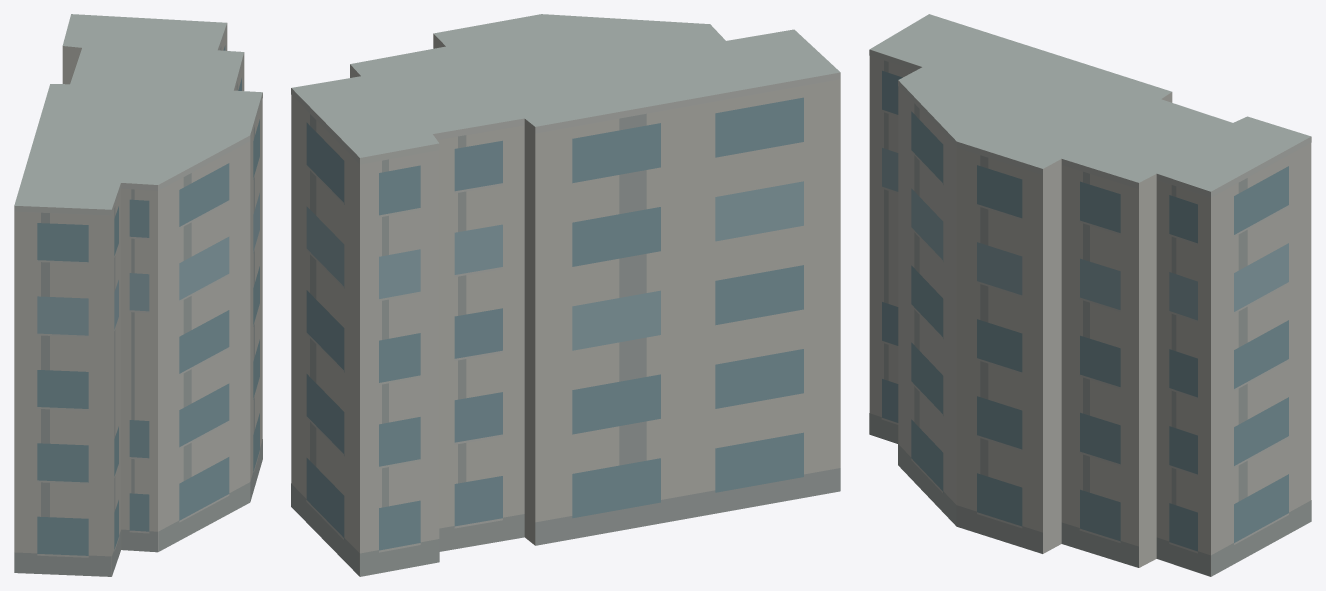
Rendered from survey-upis-32477972.glb.
3 renders of one model, left to right at view 1: azimuth 30°, elevation 25°; view 2: azimuth 150°, elevation 25°; view 3: azimuth 270°, elevation 25°, orthographic. The views are drawn at different scales.
Visible parts, largest first — view 1: survey-upis-32477972.tmp; view 2: survey-upis-32477972.tmp; view 3: survey-upis-32477972.tmp.
Part boxes in pixels (x1,y1,x2,y2): survey-upis-32477972.tmp: (14,14,262,576); survey-upis-32477972.tmp: (291,14,840,576); survey-upis-32477972.tmp: (869,14,1311,576).
Size of the model in its own units: 15.1 by 15.25 by 15.87.
